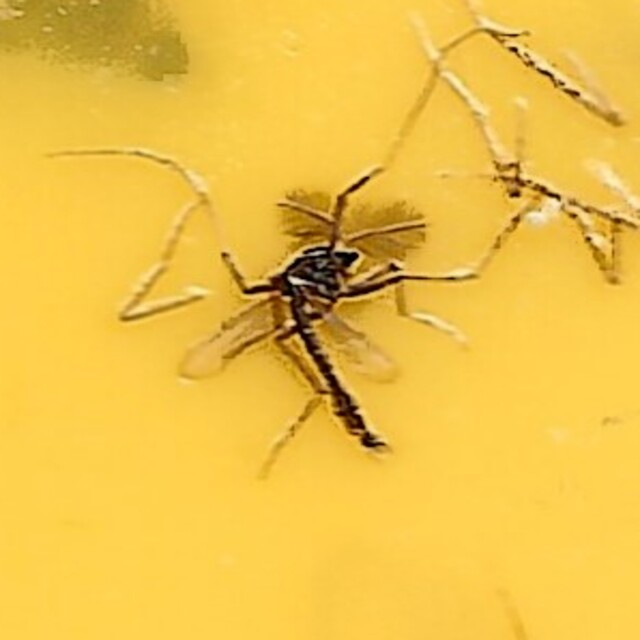Nematocera: (215, 180, 425, 460)
